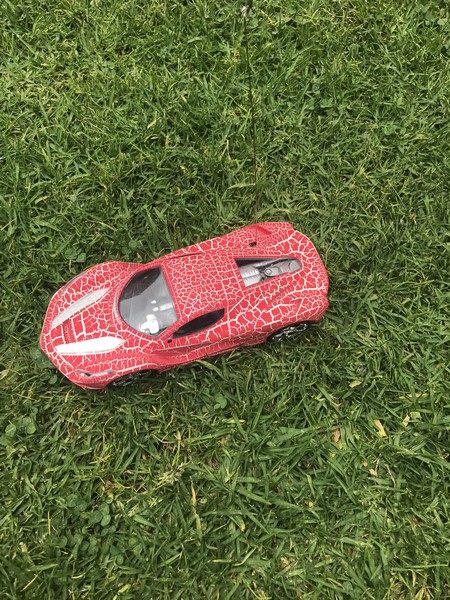RC: (37, 220, 331, 393)
